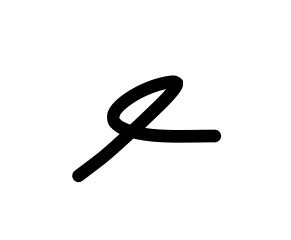o: (98, 63, 249, 156)
